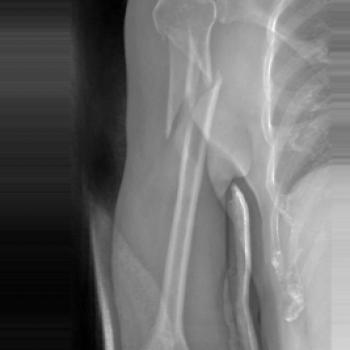Fracture: (150, 100, 217, 147)
